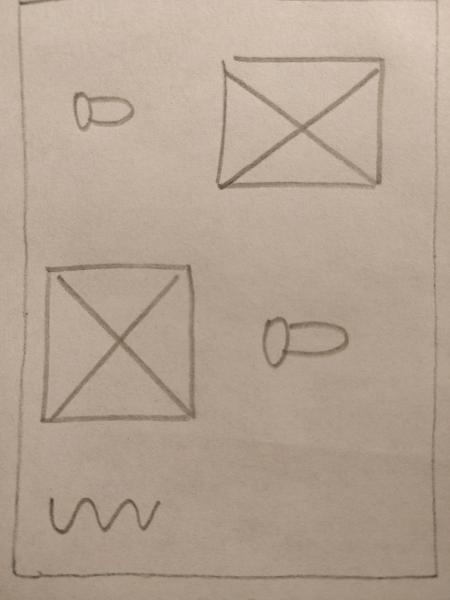image: (32, 251, 207, 431), (208, 46, 389, 201)
switch: (252, 309, 358, 375), (61, 84, 137, 133)
text: (39, 487, 163, 541)
